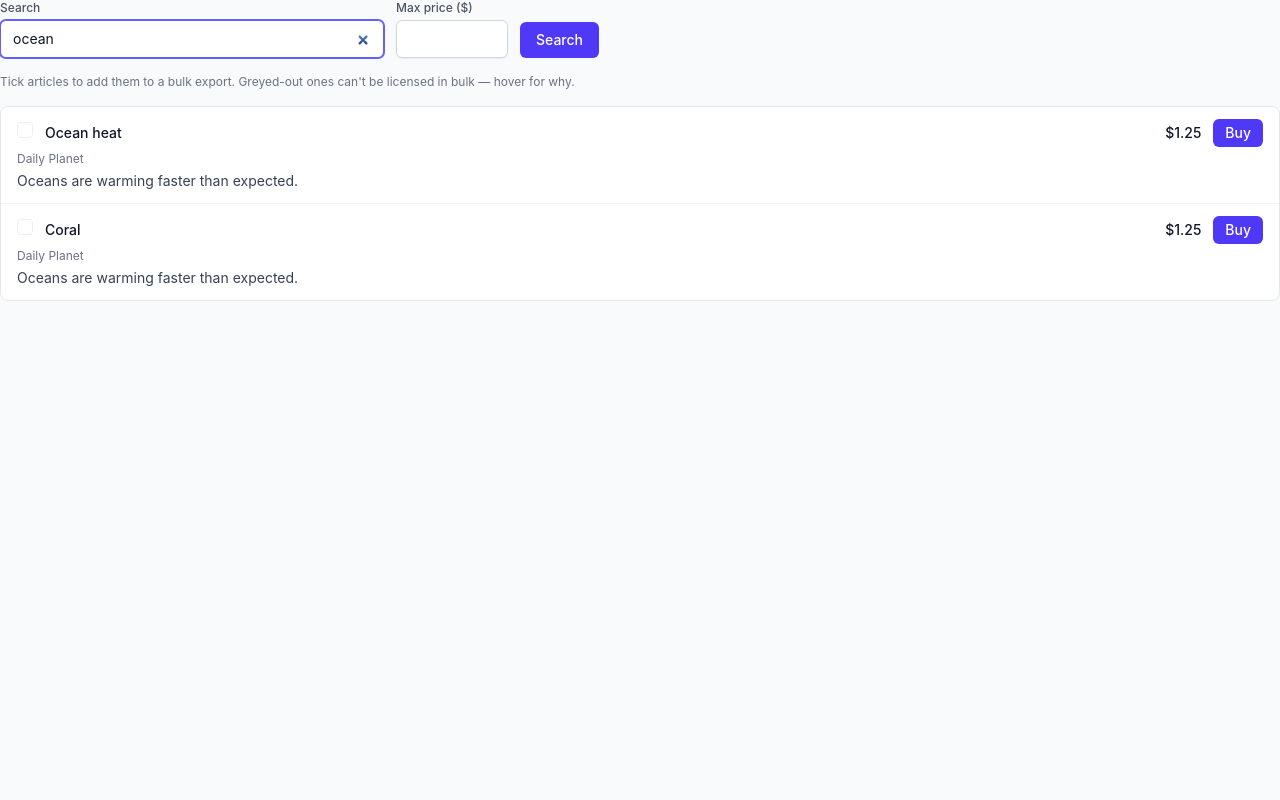
Test: ContentSearch › buying a result › confirming buys the work and replaces the results with the article
The width and height of the screenshot is (1280, 800).
Click the button with aria-label "Buy Ocean heat".
click(1238, 133)  # box [1213, 119, 1263, 147]
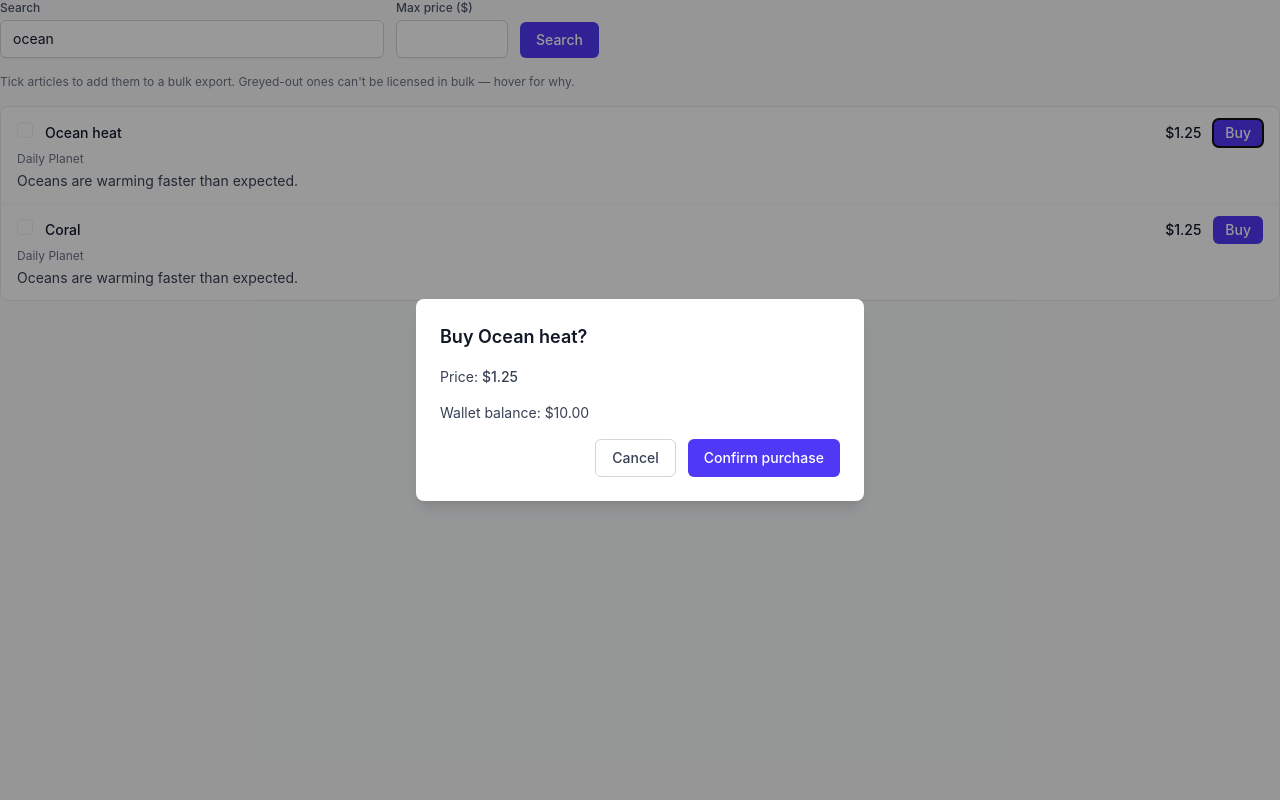
Expected: the text "Wallet balance: $10.00" is shown, [440, 404, 589, 421]
Click the button "Confirm purchase".
click(764, 458)  # box [688, 439, 840, 477]
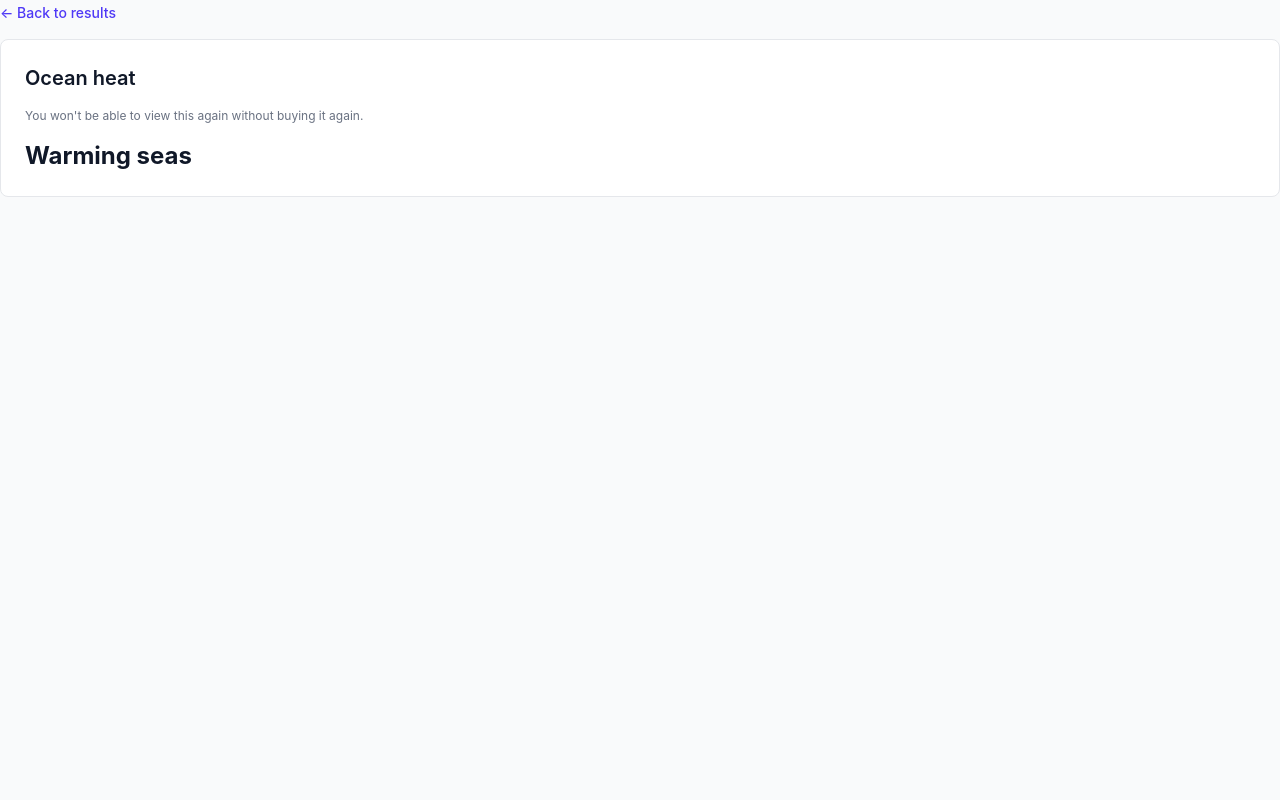
Expected: the heading "Warming seas" is shown, [25, 141, 192, 170]
Expected: the dialog is gone
Expected: the text "Coral" is gone
